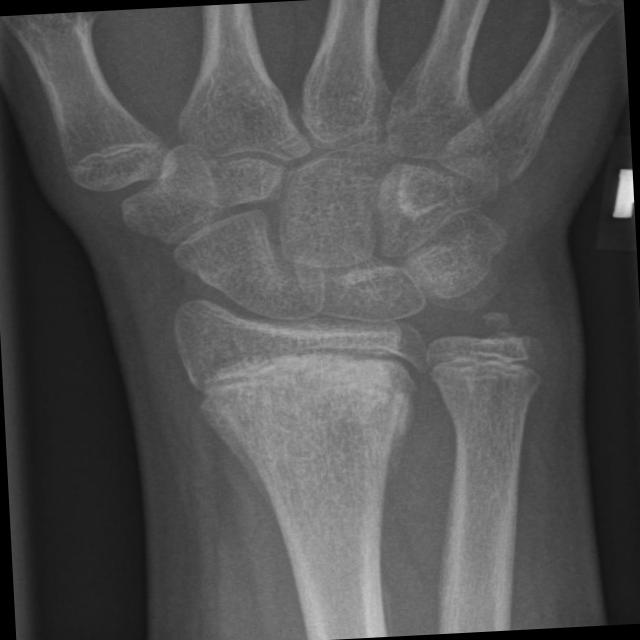fracture: (170, 324, 435, 424), (408, 331, 556, 404)
